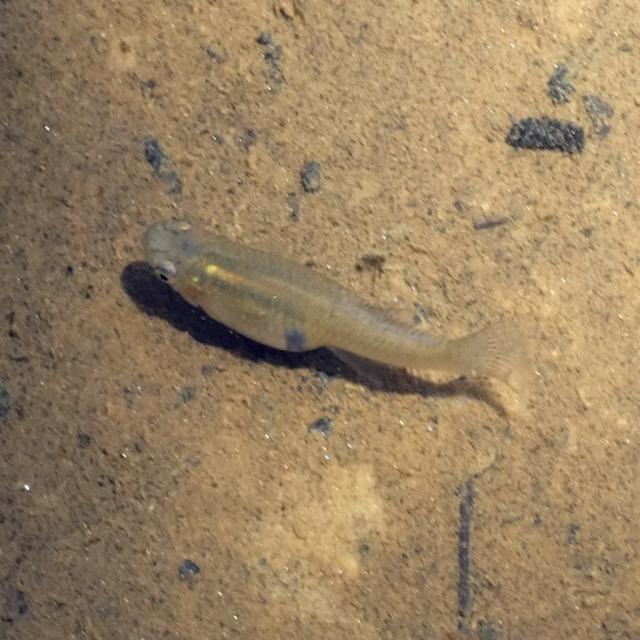Sivrisinek Baligi: (135, 210, 527, 395)
